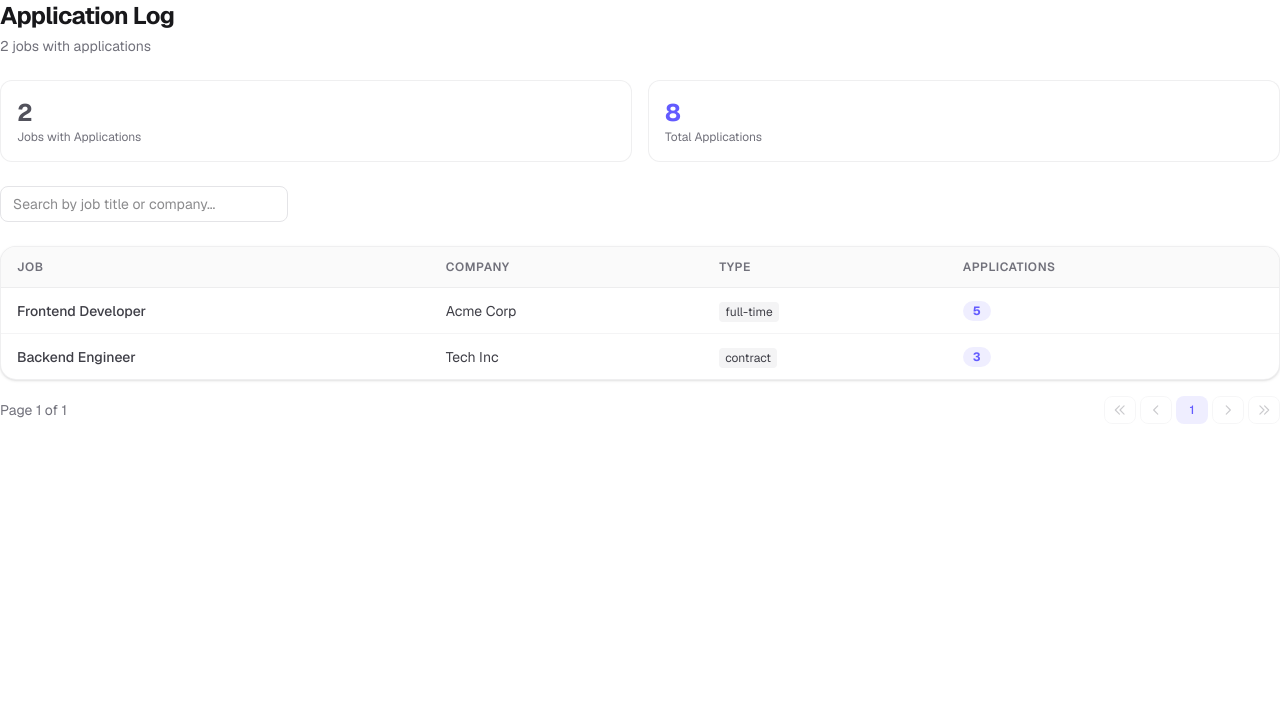
Test: ApplicationsPage › closes popup when close button is clicked
What coordinates should you click on to do the following:
click the text "Frontend Developer"
I would click on:
 (82, 310)
Its box is x1=1 y1=288 x2=430 y2=334.
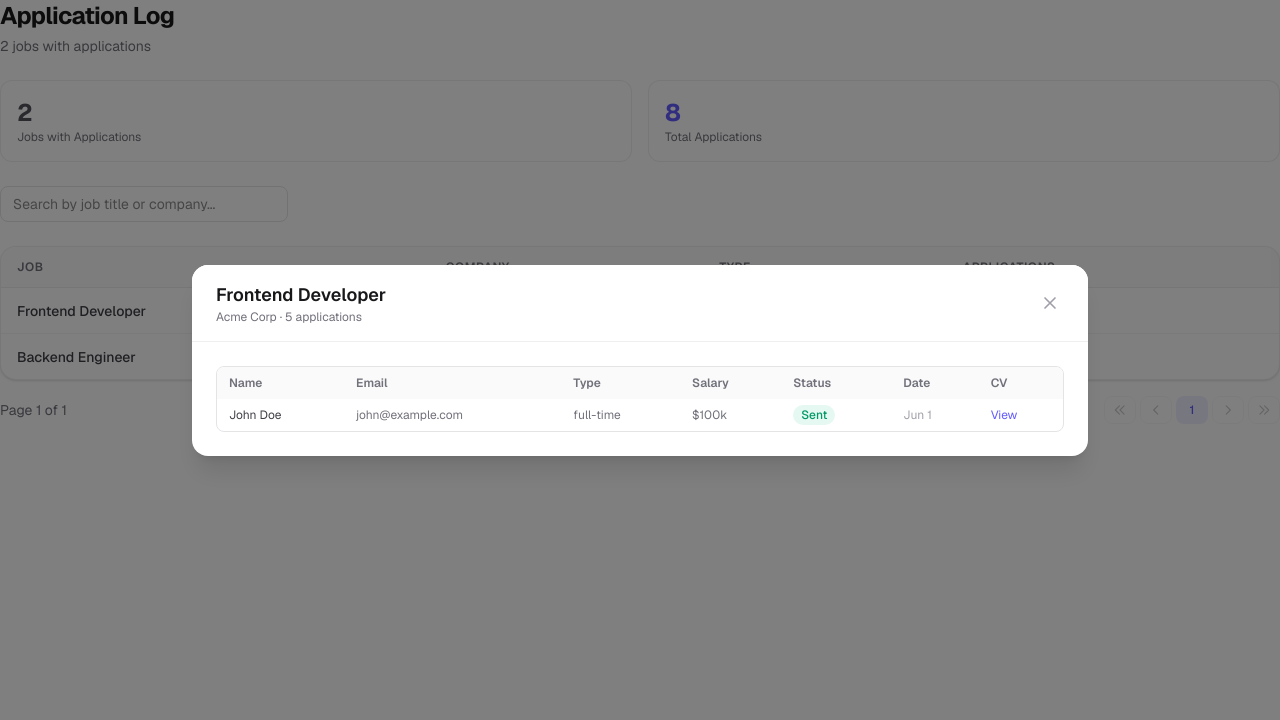
Expected: the text "John Doe" is shown, x1=217 y1=398 x2=344 y2=430
What coordinates should you click on to do the following:
click the button
I would click on:
 (1050, 302)
Its box is x1=1036 y1=288 x2=1064 y2=316.
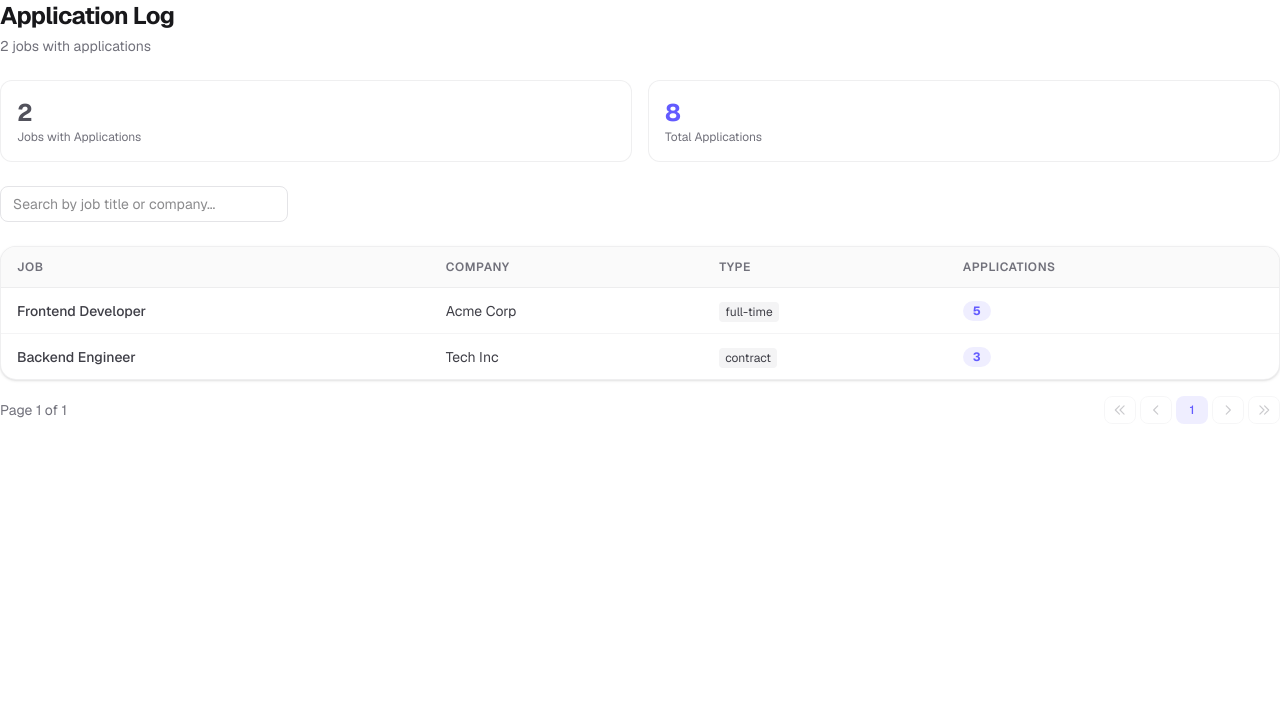
Expected: the text "John Doe" is gone
